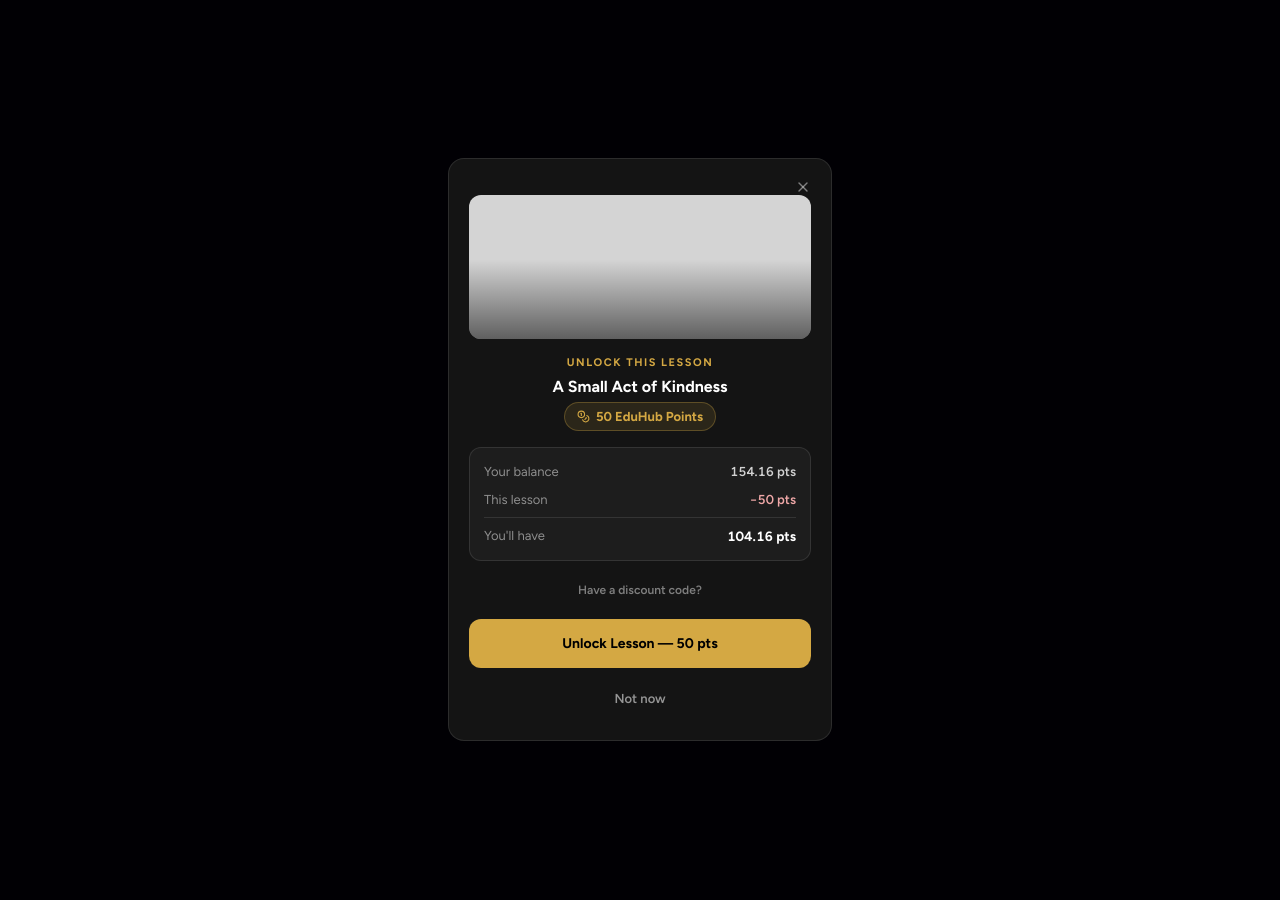
Test case: discount code at checkout › clearing the code hides the input again and drops the value
The image size is (1280, 900).
Click the button with test id "video-purchase-coupon-toggle-button": (640, 591) [469,578,811,604]
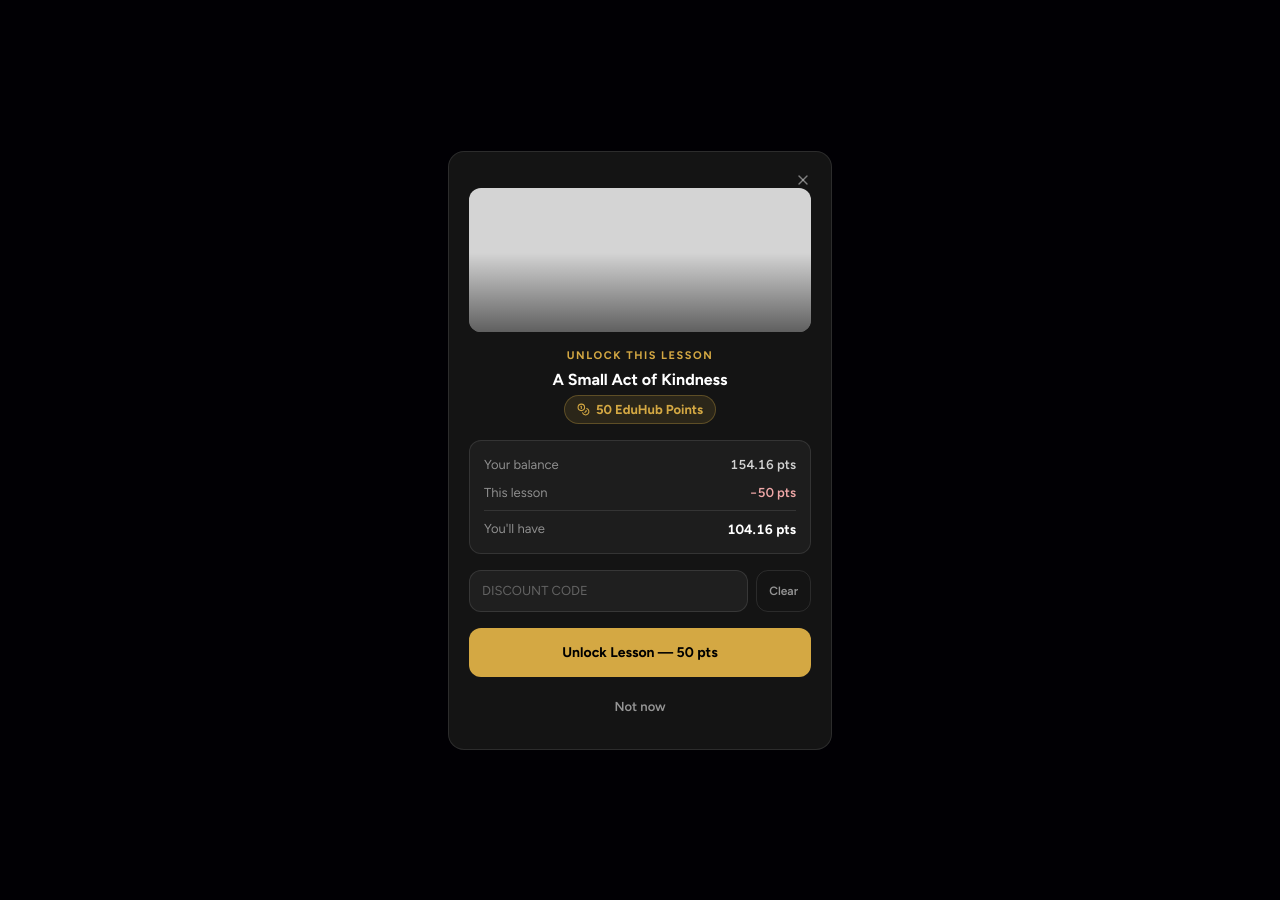
In the field with test id "video-purchase-coupon-input": (609, 591) [469,570,748,611], type "SAVE20"
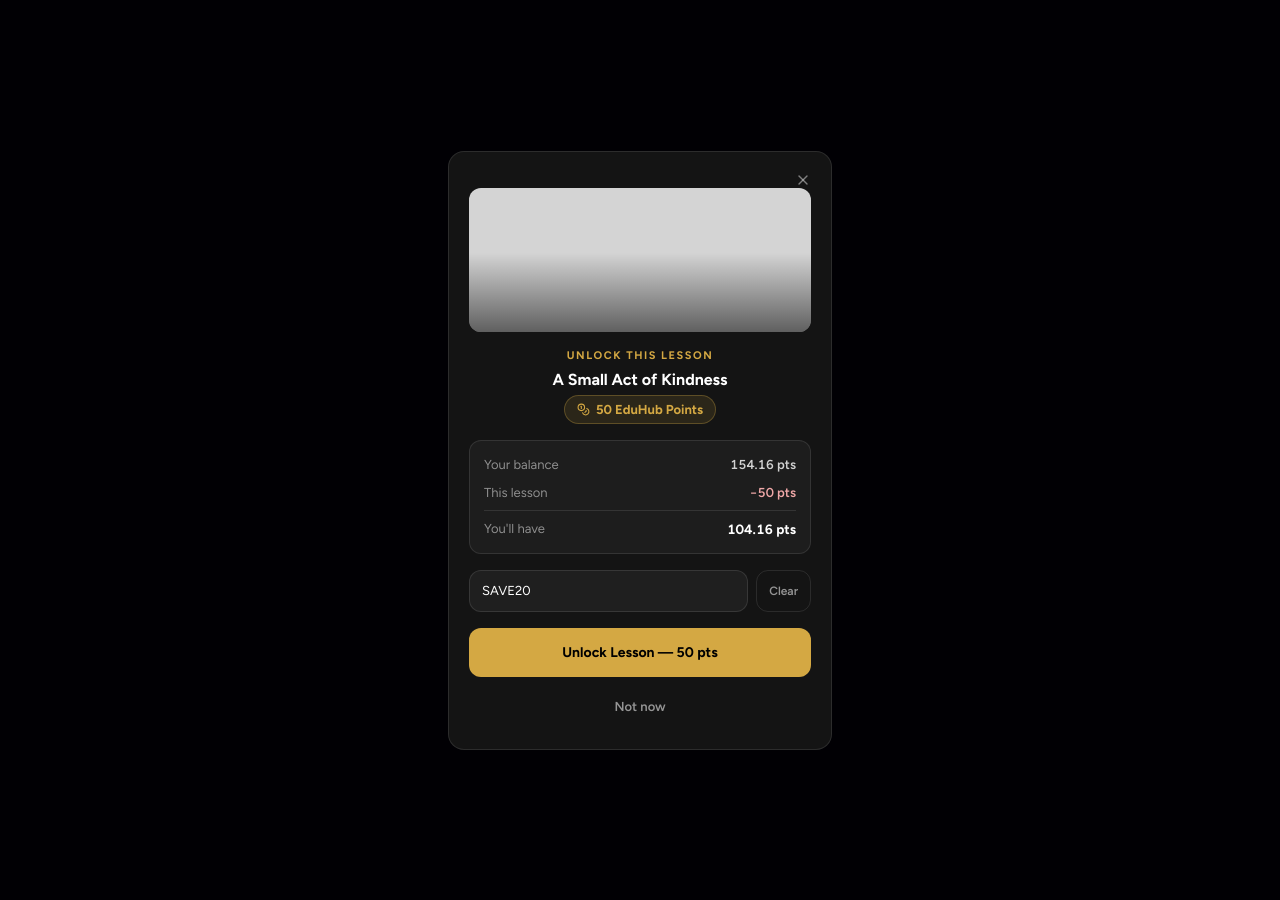
Click the button with test id "video-purchase-coupon-clear-button": (784, 591) [756,570,811,611]
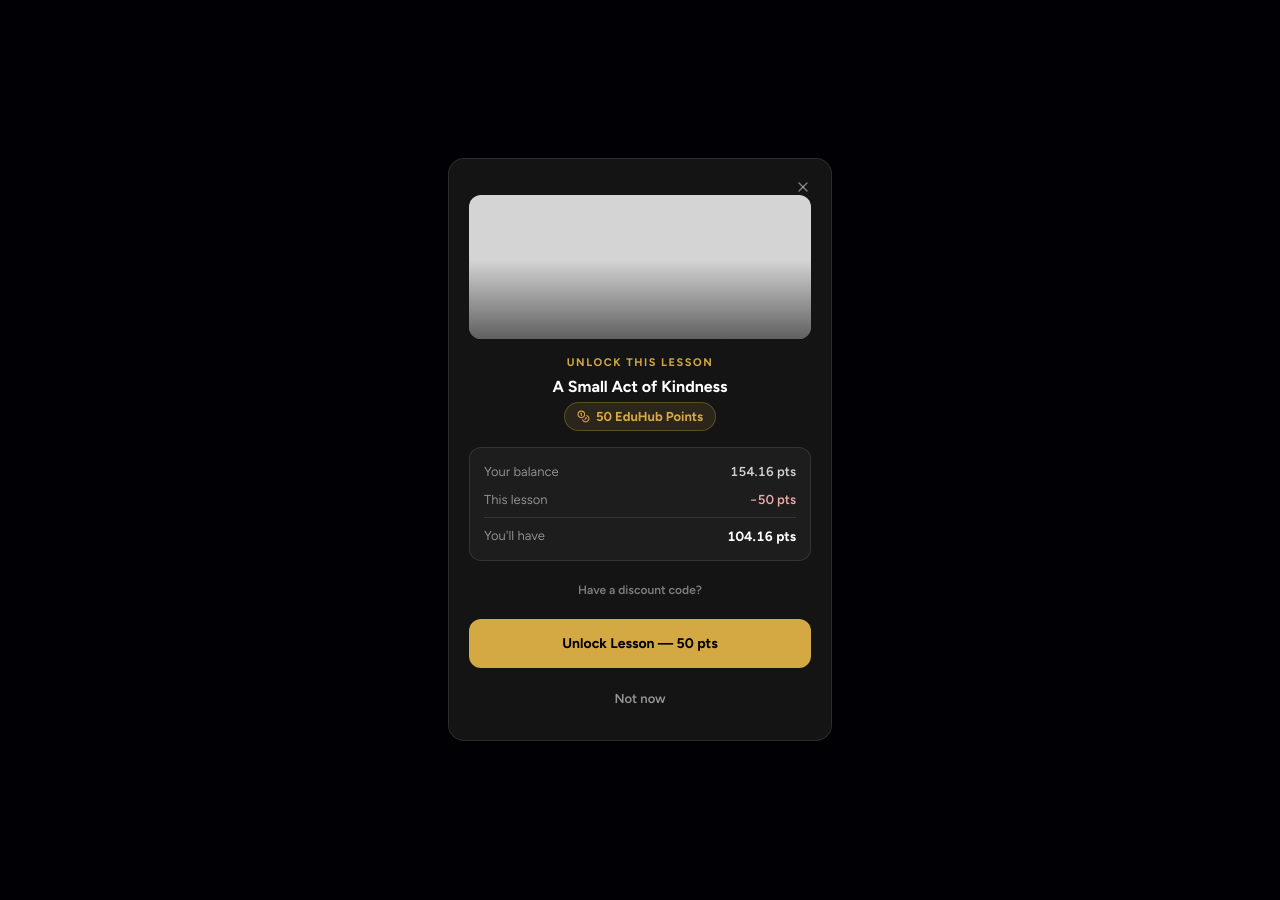
Check: the field with test id "video-purchase-coupon-input" is gone
Check: the button with test id "video-purchase-coupon-toggle-button" is shown, box [469,578,811,604]
